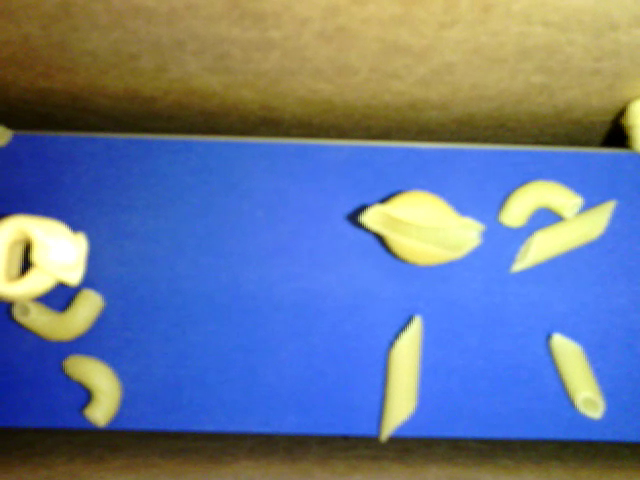elbow: (12, 285, 107, 341), (62, 354, 121, 427), (497, 179, 584, 228)
penne: (509, 198, 616, 273), (378, 312, 423, 442), (548, 330, 607, 421)
shell: (356, 187, 483, 269)
tortellini: (1, 213, 90, 302)
